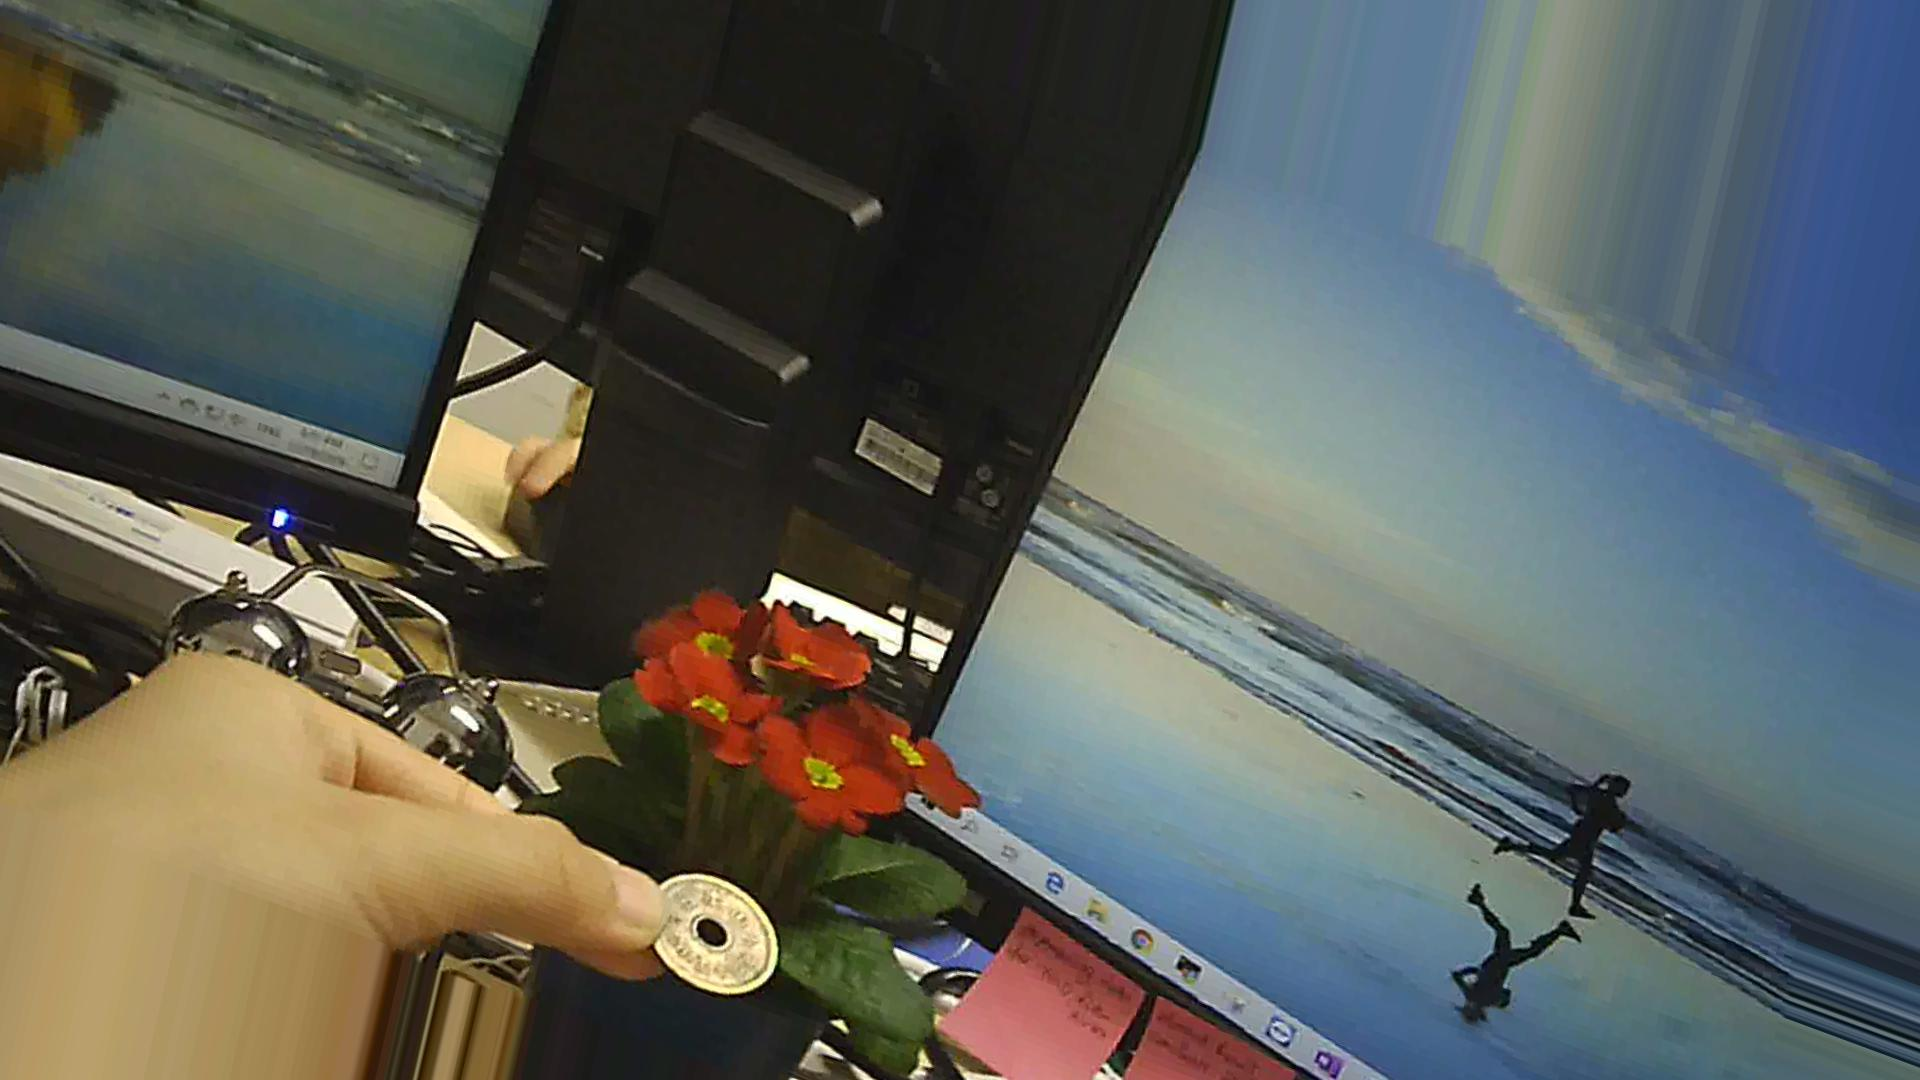5 Yen: (638, 872, 787, 997)
